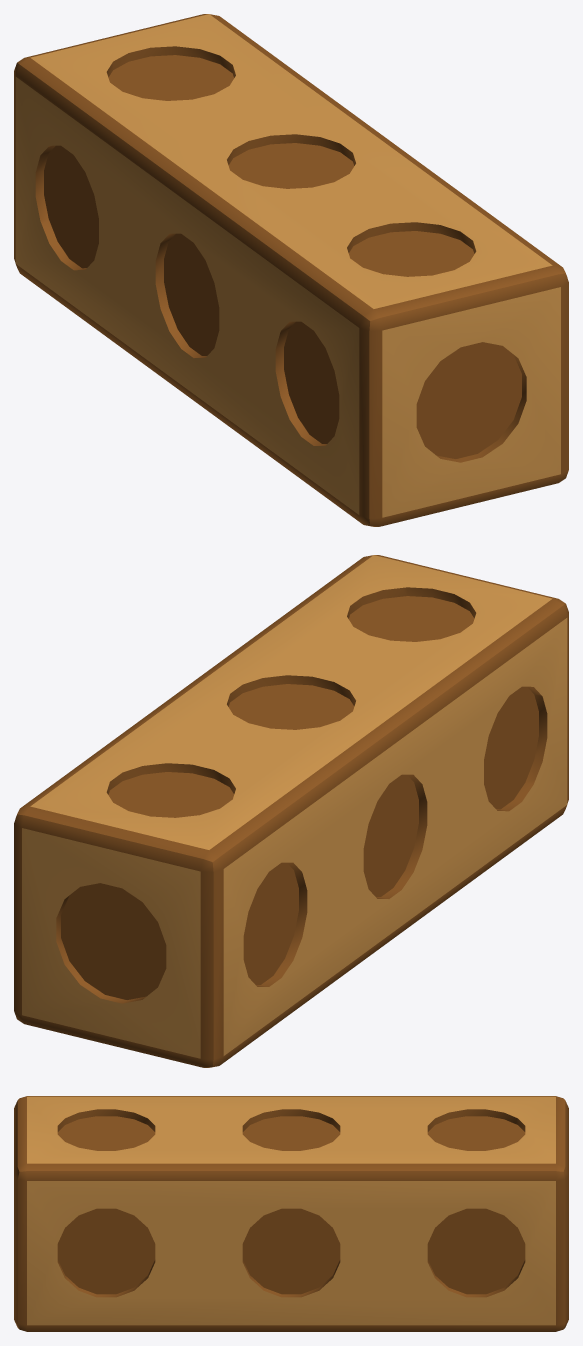
File: LongBlock.fbx
3 renders of one model, top to bottom at view 1: azimuth 30°, elevation 25°; view 2: azimuth 150°, elevation 25°; view 3: azimuth 270°, elevation 25°, orthographic. The views are drawn at different scales.
Parts seen in each view (by area): view 1: LongBlock_LOD0; view 2: LongBlock_LOD0; view 3: LongBlock_LOD0.
Part boxes in pixels (left/top/right/bottom): LongBlock_LOD0: left=14, top=14, right=568, bottom=526; LongBlock_LOD0: left=14, top=555, right=568, bottom=1067; LongBlock_LOD0: left=14, top=1096, right=568, bottom=1331.
Size of what is drawn, in the model's own units: 0.0873 by 0.0873 by 0.2618.
